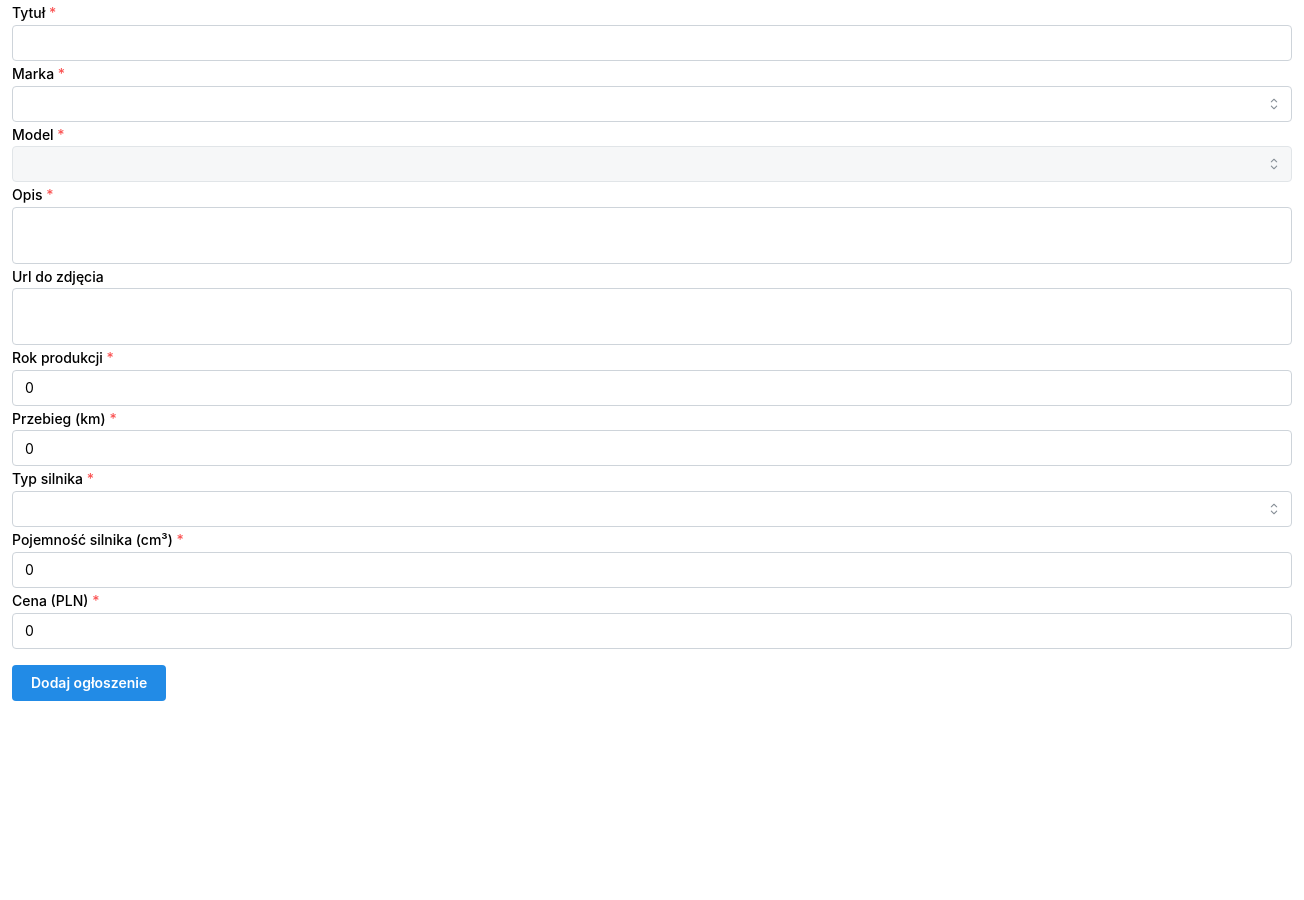
Listing adding form - title input › displays error when car milage is negative
Replace the text in the number field with test id "milage-input" with "-1" at x=652, y=448, box [12,430,1292,466]
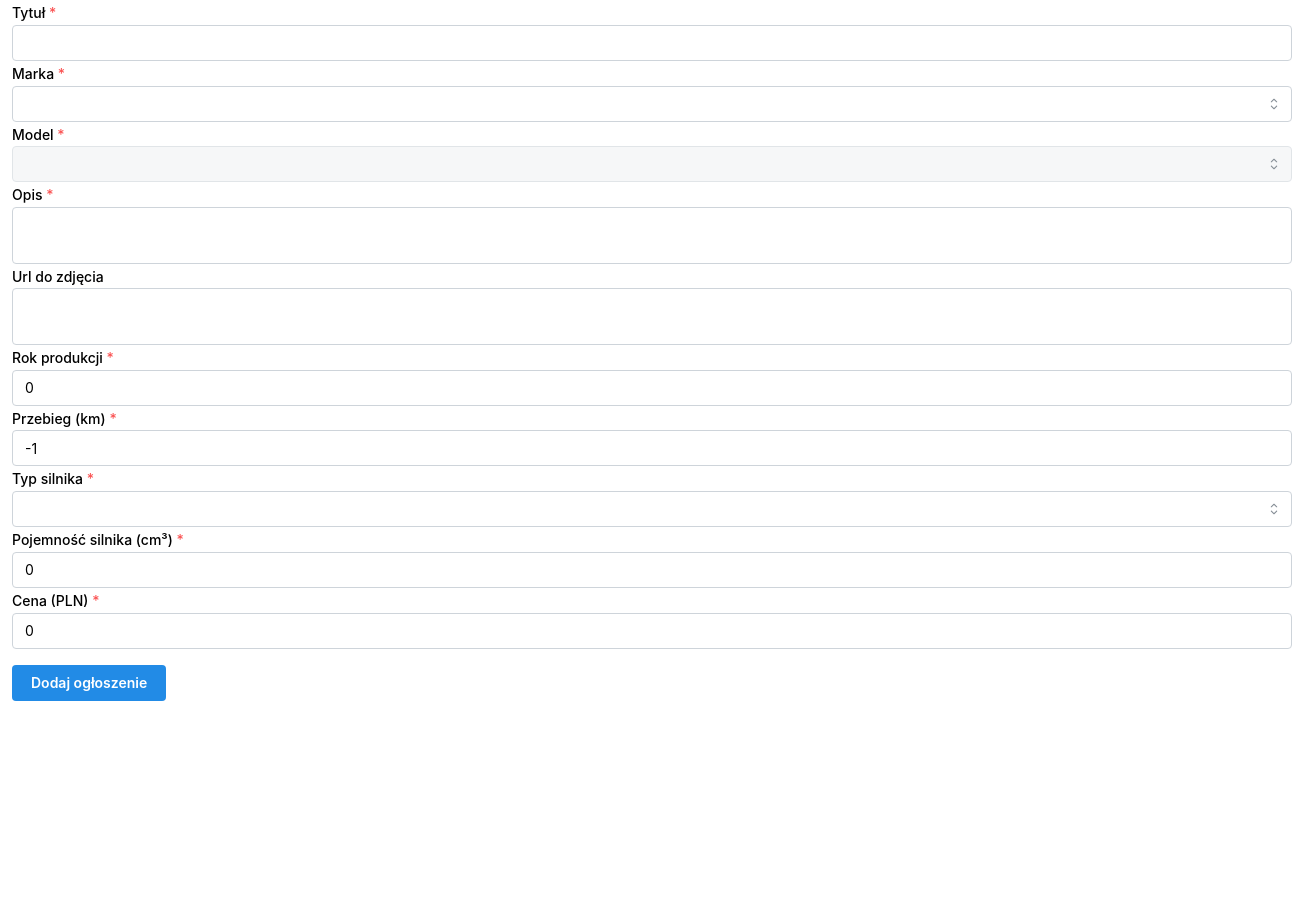
Leave the number field with test id "milage-input", box [12,430,1292,466]
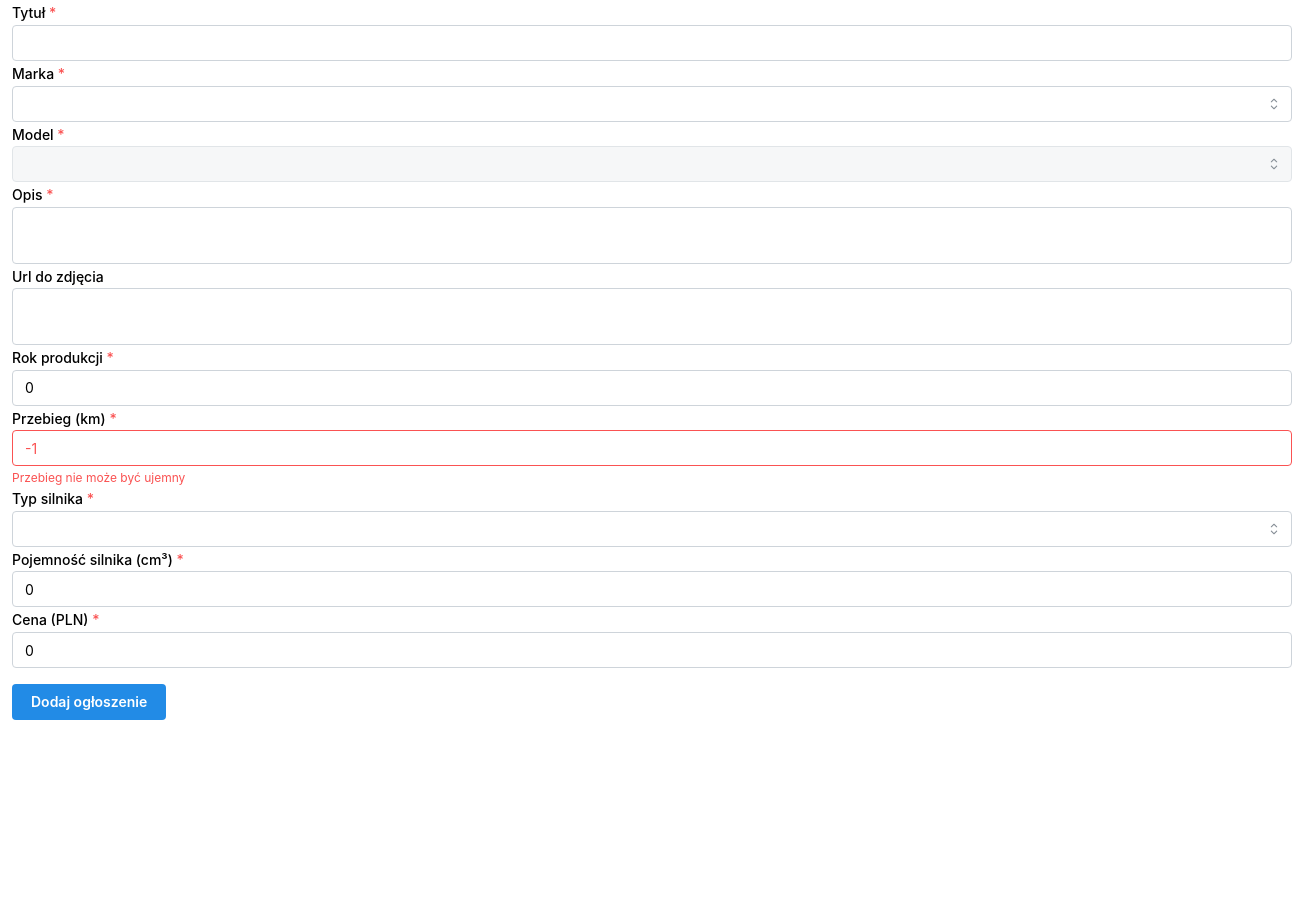
Check: the text "Przebieg nie może być ujemny" is shown, box [12,470,185,485]
